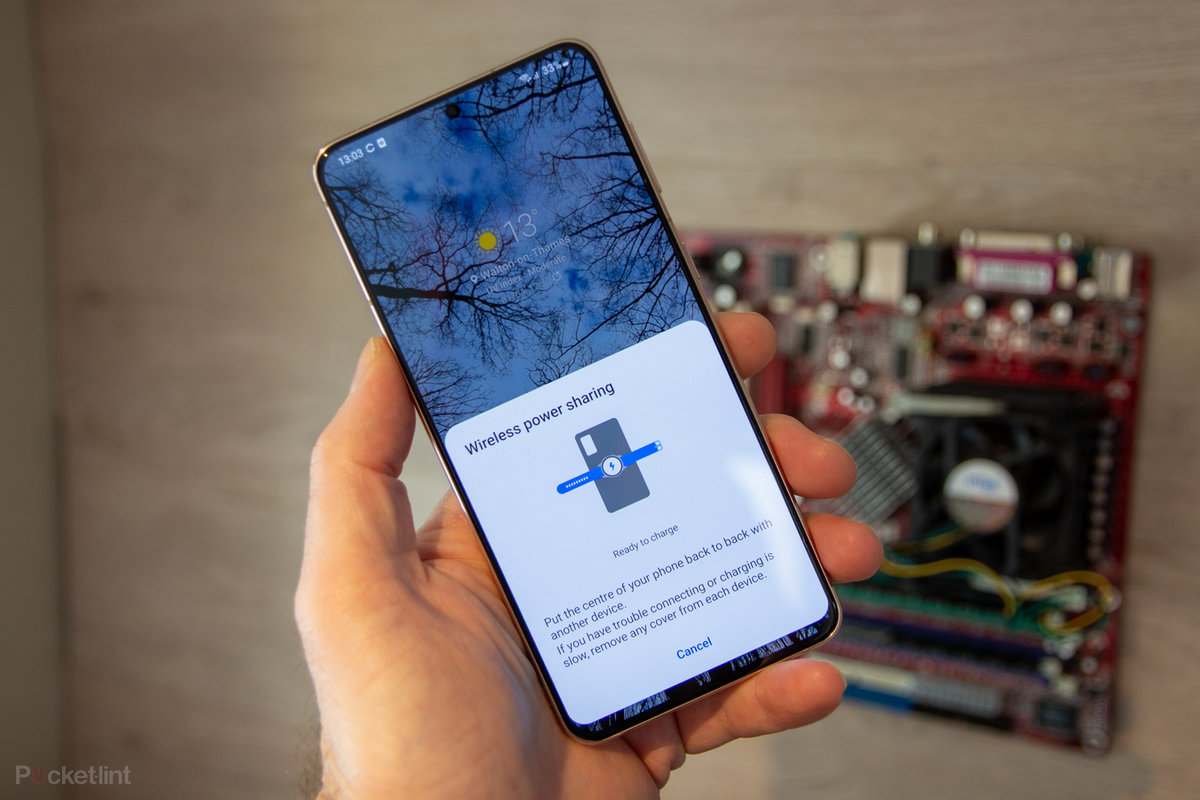Cell Phone: (313, 42, 839, 719)
